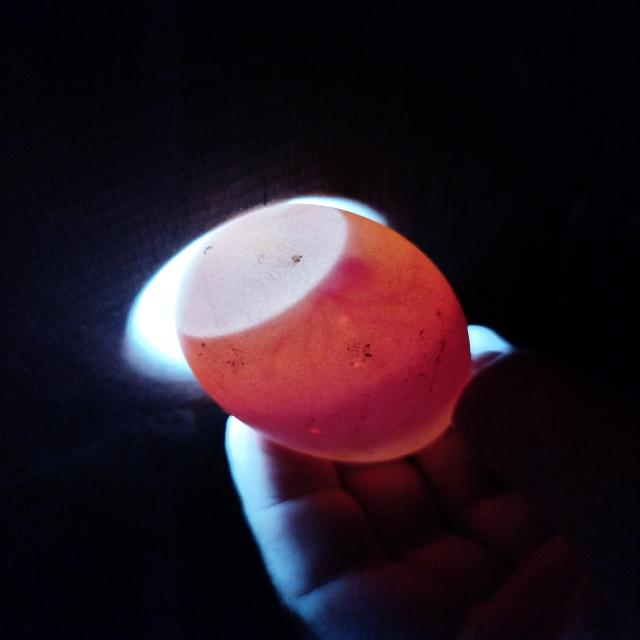Camara de Ar: (175, 204, 347, 338)
Gema Quebrada: (240, 300, 472, 458)
